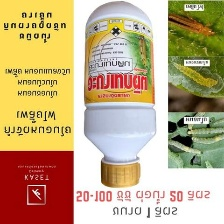insecticide: (80, 0, 158, 188)
